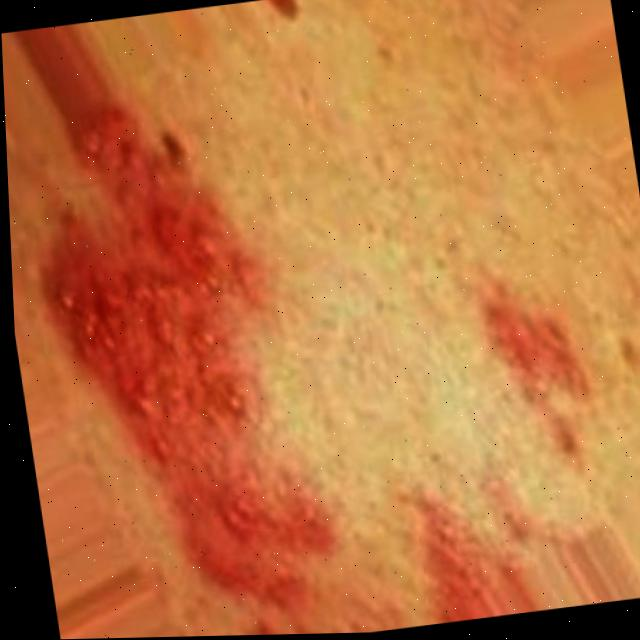Shingles: (29, 133, 319, 569), (478, 299, 580, 392), (410, 494, 508, 588)
